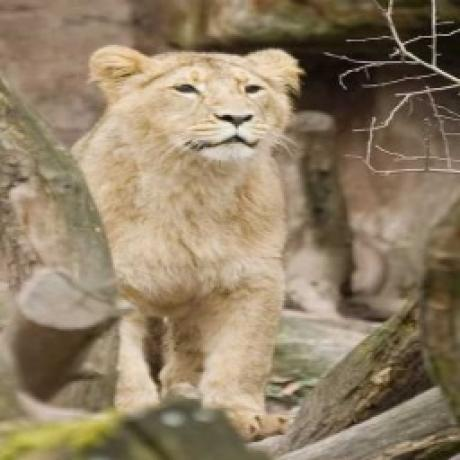Lion: (71, 43, 304, 440)
